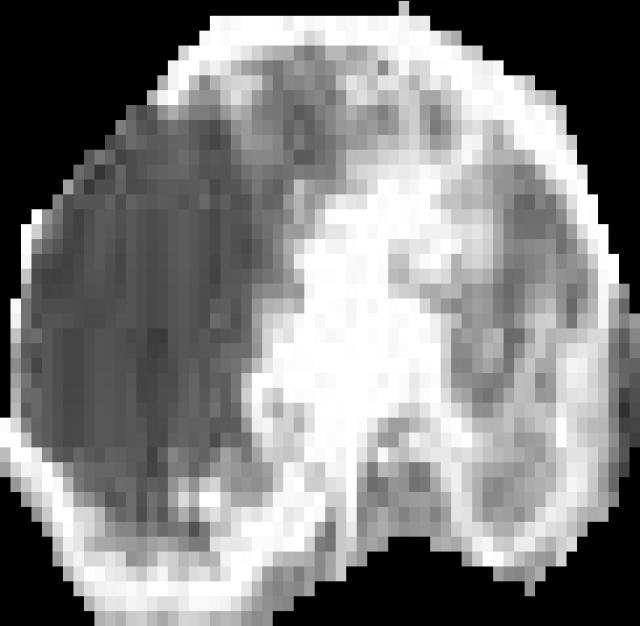tumor_moderate_chance: (0, 1, 640, 626)
